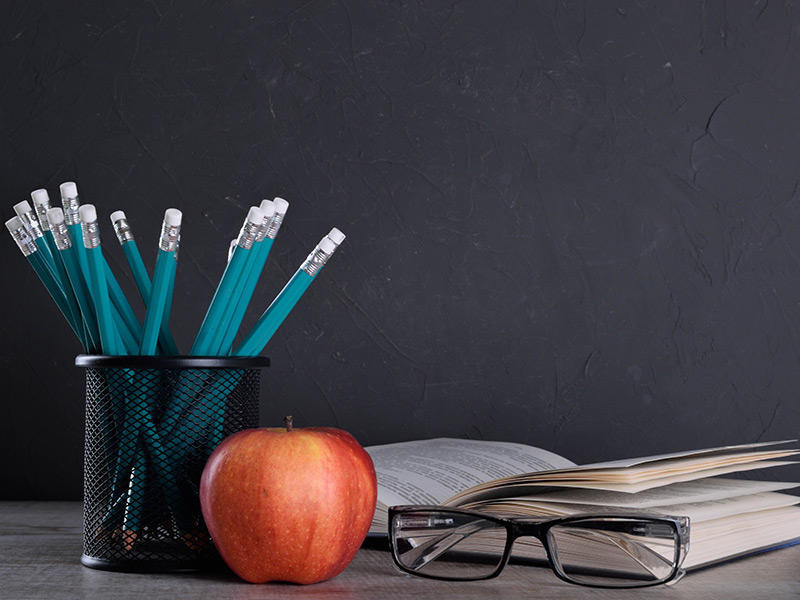apple: (202, 416, 383, 590)
